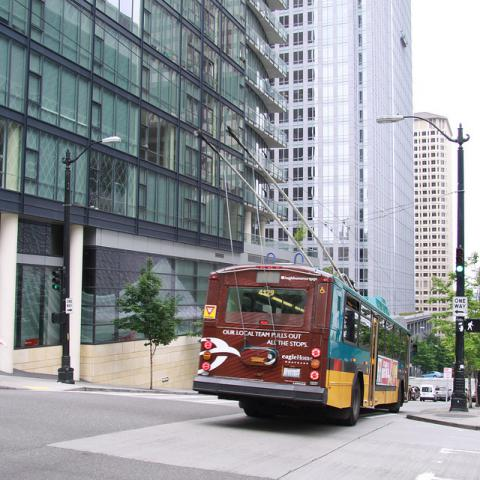bus: (193, 252, 413, 426)
car: (419, 384, 437, 402), (434, 385, 448, 401), (420, 371, 444, 378), (408, 384, 416, 401), (466, 389, 476, 402), (412, 387, 420, 398)
